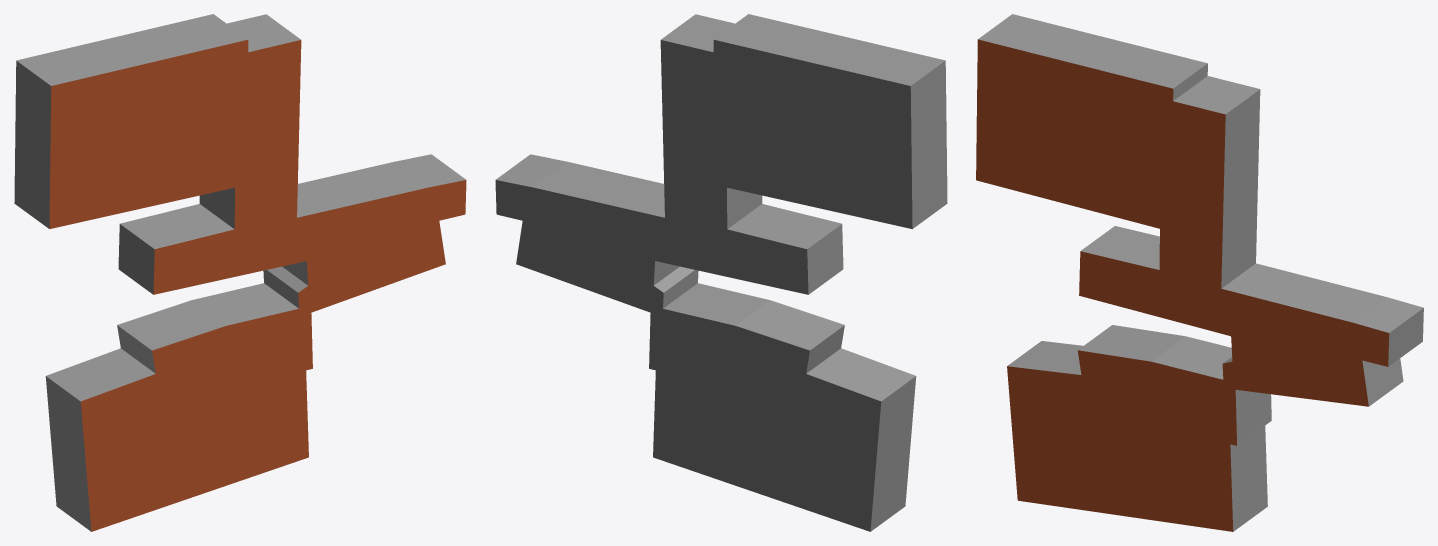
File: construction_2195_assumed_A_Casa_h6m.obj
3 views of the same model, side by side, from view 1: azimuth 30°, elevation 25°; view 2: azimuth 150°, elevation 25°; view 3: azimuth 330°, elevation 25° (orthographic).
Visible parts, largest first — view 1: construction_2195_assumed_A_Casa; view 2: construction_2195_assumed_A_Casa; view 3: construction_2195_assumed_A_Casa.
Boxes of the visible parts, <box> form: construction_2195_assumed_A_Casa: <box>14,14,466,531</box>; construction_2195_assumed_A_Casa: <box>495,14,947,531</box>; construction_2195_assumed_A_Casa: <box>976,14,1423,531</box>.
Size of the model in its own units: 41.3 by 43.12 by 6.
